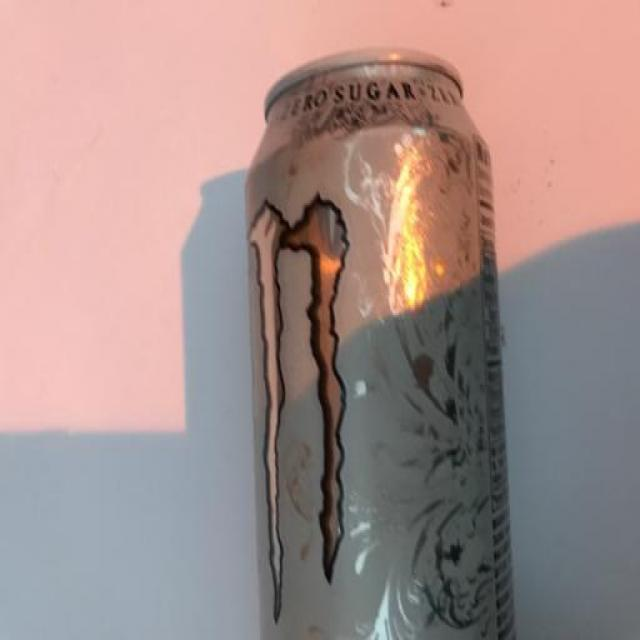metel: (236, 42, 557, 640)
